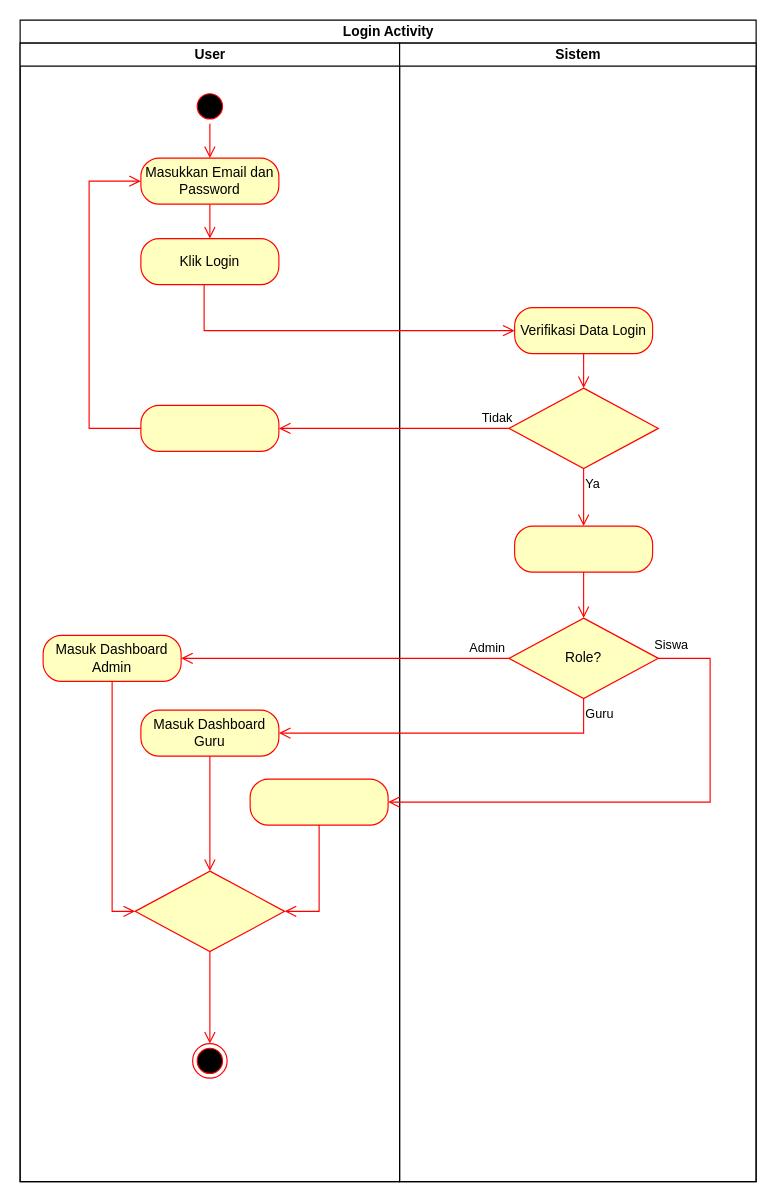
Some shapes in this 776 by 1202 pixel diagram are drawn without their labels. Each missing label, with the box of its shape:
Data Valid?: (508, 387, 658, 469)
Identifikasi Role Pengguna: (513, 525, 653, 572)
Masuk Dashboard Siswa: (249, 778, 388, 825)
Tampilkan Pesan Kesalahan: (140, 404, 279, 451)
